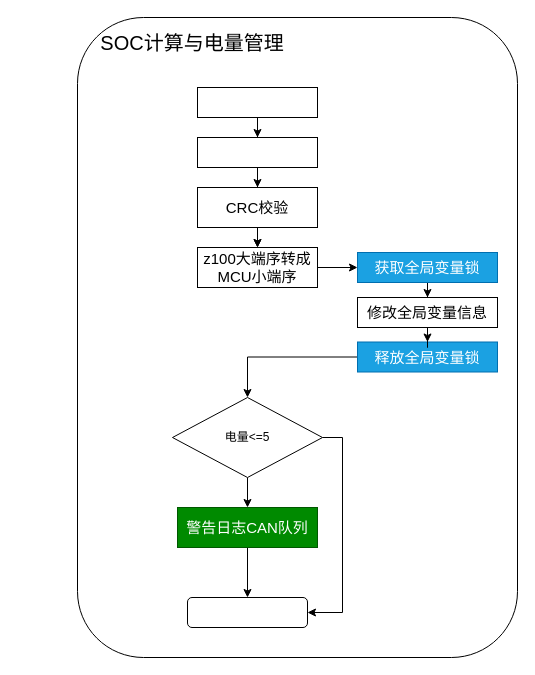
This 535x675 diagram has some shape labels left out. The box of each missing label's shape, as (x1, y1, x2, y2) in pixels:
osDelay250ms: (196, 86, 318, 118)
完成: (186, 596, 308, 628)
读取SOC,SOH,FCC: (196, 136, 318, 168)
